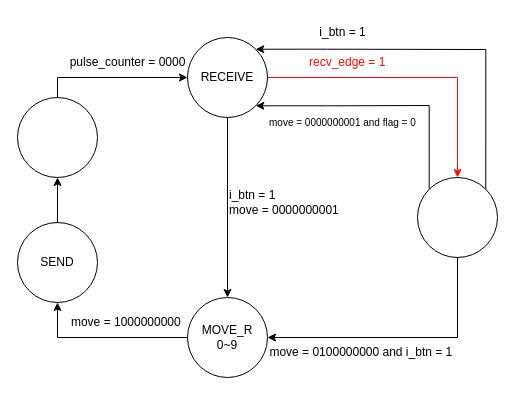
The diagram is 515 pixels wide and 395 high, and some of its shapes have lost their labels. The shapes that lost their labels are listed below. From the top down, each one's box as (x1, y1, x2, y2) in pixels, then its label:
(16, 96, 98, 178): WINNER
(416, 176, 498, 258): MOVE_L 9~0
